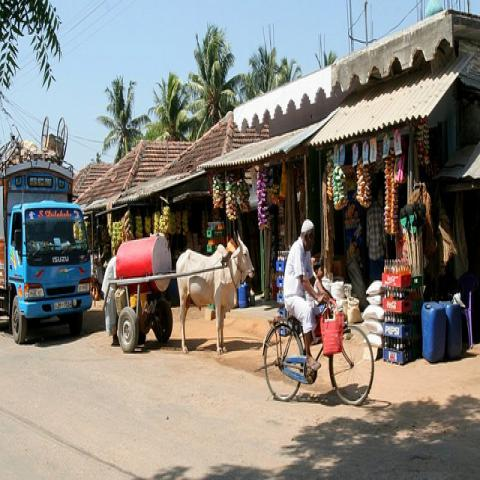truck: (0, 117, 94, 344)
